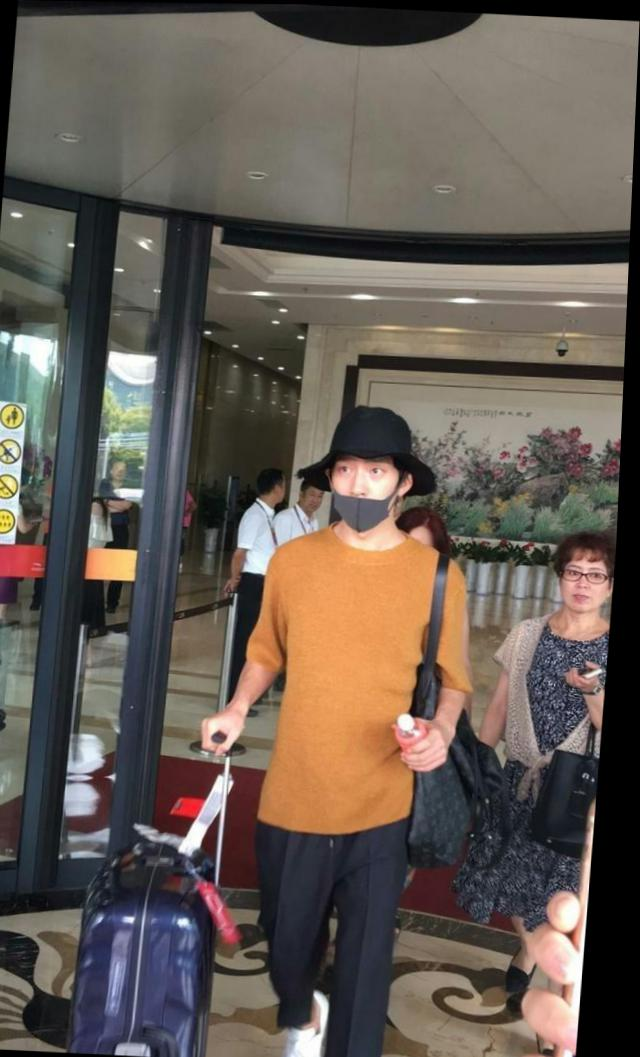NONE: (563, 557, 617, 611), (305, 487, 331, 512), (118, 465, 132, 479)
WRONG: (329, 447, 418, 534)
